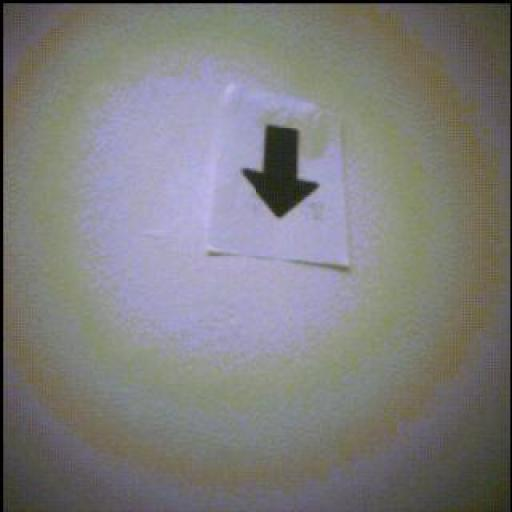Arrow: (243, 126, 320, 219)
